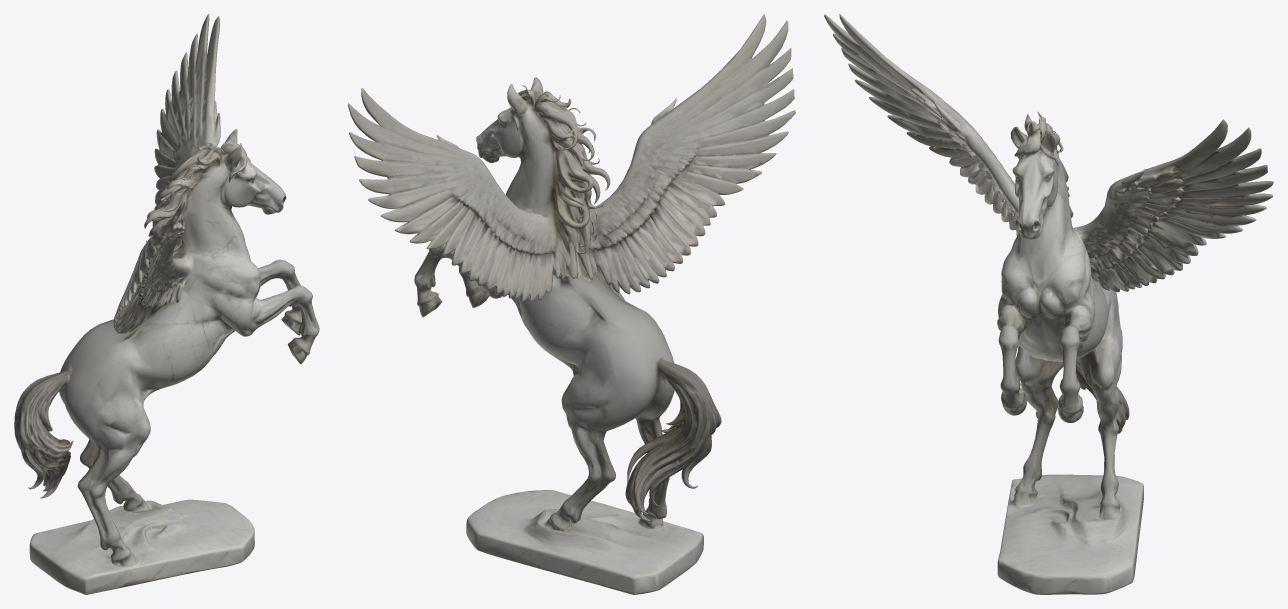
Rendered from PegasusStatue.glb.
3 views of the same model, side by side, from view 1: azimuth 30°, elevation 25°; view 2: azimuth 150°, elevation 25°; view 3: azimuth 270°, elevation 25° (orthographic). The views are drawn at different scales.
Parts seen in each view (by area): view 1: node_0; view 2: node_0; view 3: node_0.
Boxes of the visible parts, x1,y1,x2,y2 form: node_0: (14, 14, 319, 594); node_0: (348, 14, 795, 594); node_0: (824, 14, 1273, 594).
Size of the model in its own units: 0.5913 by 0.8928 by 0.7239.
1 material, 1 textured.
